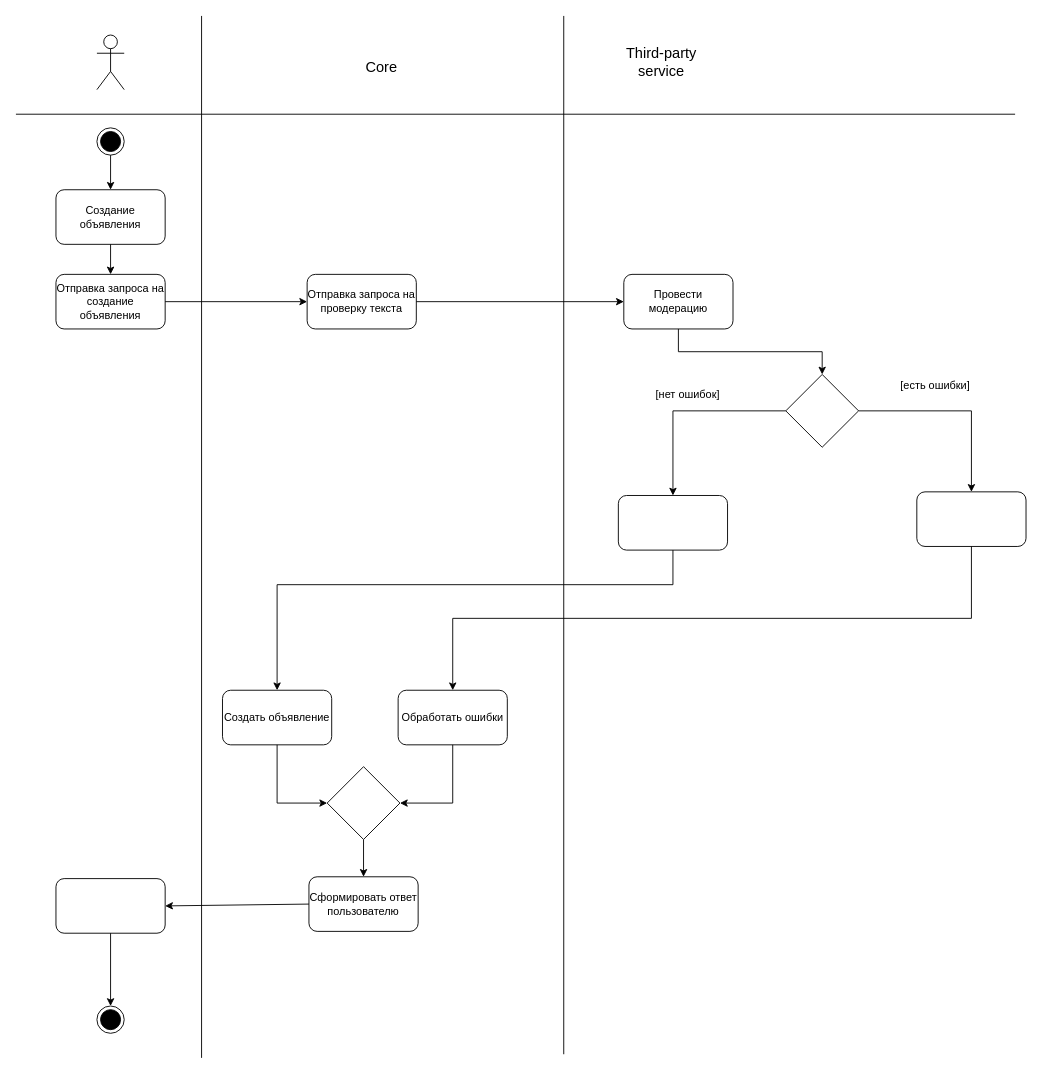
Some shapes in this 1042 by 1075 pixel diagram are drawn without their labels. Here are the shapes that lost their labels. From the top down, the centre of each, then its label:
the point at 110,62: Tenant
the point at 672,522: Сообщить, что все нормально
the point at 971,518: Прислать список ошибок
the point at 110,905: Отобразить ответ
